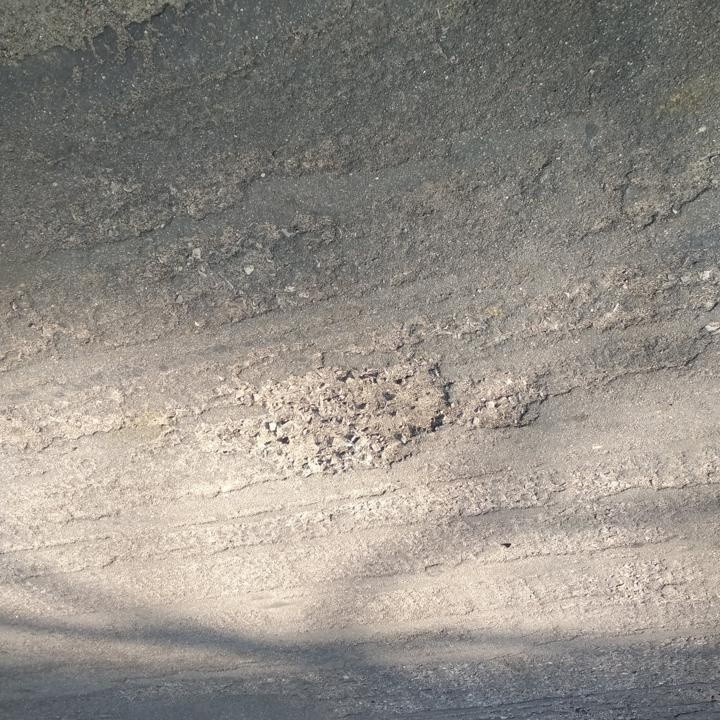pothole: (254, 363, 456, 470), (455, 370, 545, 433)
